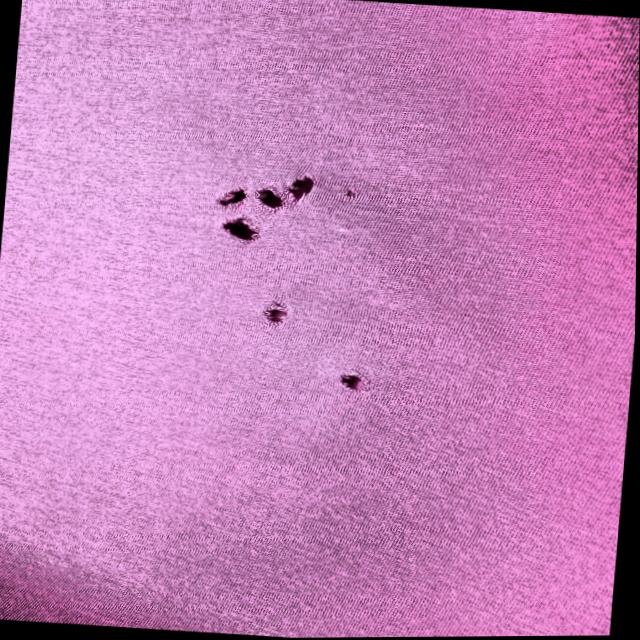Hole: (206, 206, 273, 257), (280, 162, 326, 211), (251, 290, 299, 336), (327, 360, 376, 403), (206, 177, 254, 214), (249, 180, 288, 218), (338, 182, 361, 205)
